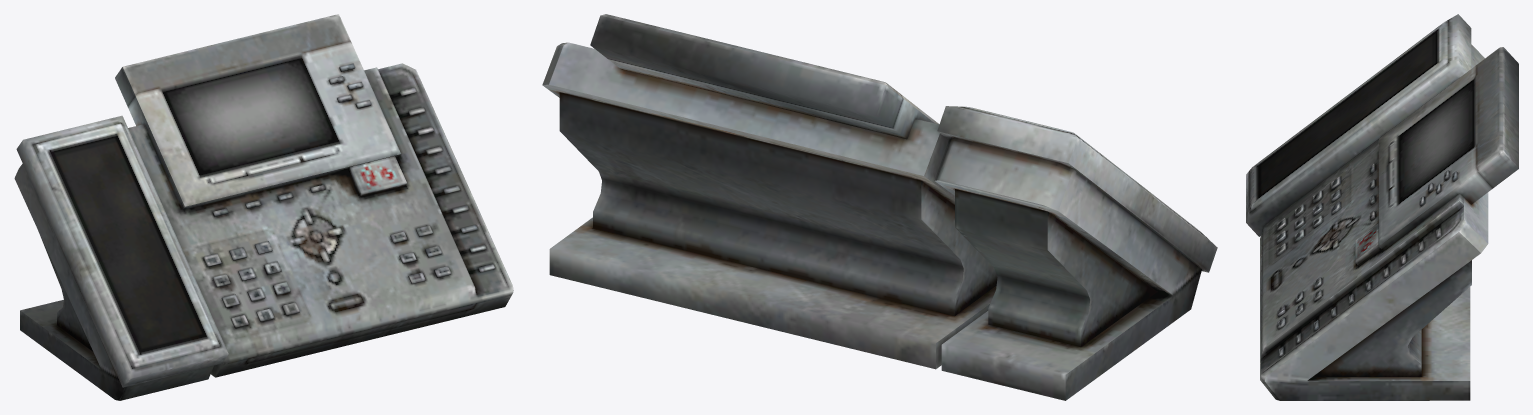
Rendered from telephone.DAE.
The picture shows the model from 3 angles, left to right: view 1: azimuth 30°, elevation 25°; view 2: azimuth 150°, elevation 25°; view 3: azimuth 270°, elevation 25°; orthographic projection. The views are drawn at different scales.
Parts seen in each view (by area): view 1: telephone; view 2: telephone; view 3: telephone.
Part boxes in pixels (box(x1,y1,x2,y2)): telephone: box(14, 14, 513, 400); telephone: box(542, 14, 1217, 400); telephone: box(1246, 14, 1518, 400).
Bounding box in the file's own units: 0.551 × 0.2979 × 0.3312.
